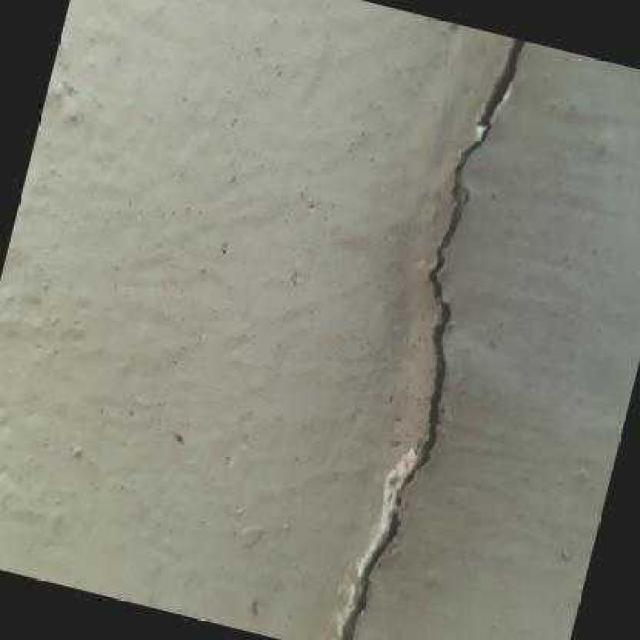D00: (341, 38, 526, 640)
